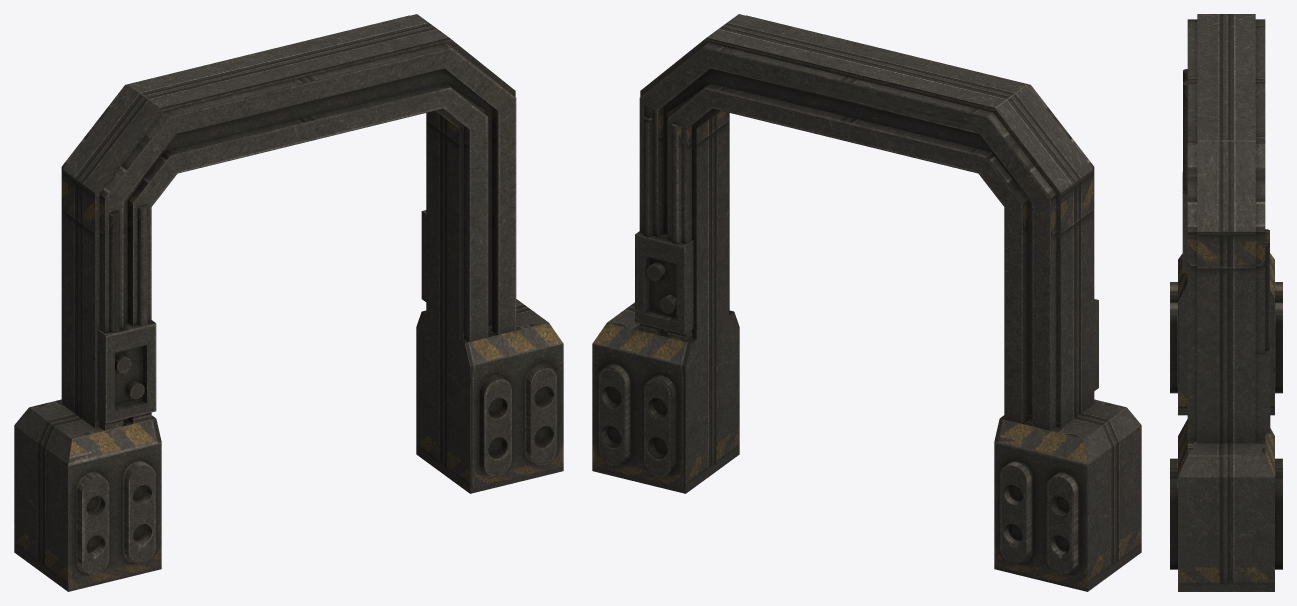
File: Door Open V2.fbx
3 renders of one model, left to right at view 1: azimuth 30°, elevation 25°; view 2: azimuth 150°, elevation 25°; view 3: azimuth 270°, elevation 25°, orthographic. The views are drawn at different scales.
Visible parts, largest first — view 1: Door open; view 2: Door open; view 3: Door open.
Boxes of the visible parts, left/top/right/bottom form: Door open: left=14, top=14, right=563, bottom=591; Door open: left=592, top=14, right=1141, bottom=591; Door open: left=1170, top=14, right=1282, bottom=591.
Size of the model in its own units: 2 by 0.4377 by 1.74.
1 material, 1 textured.
